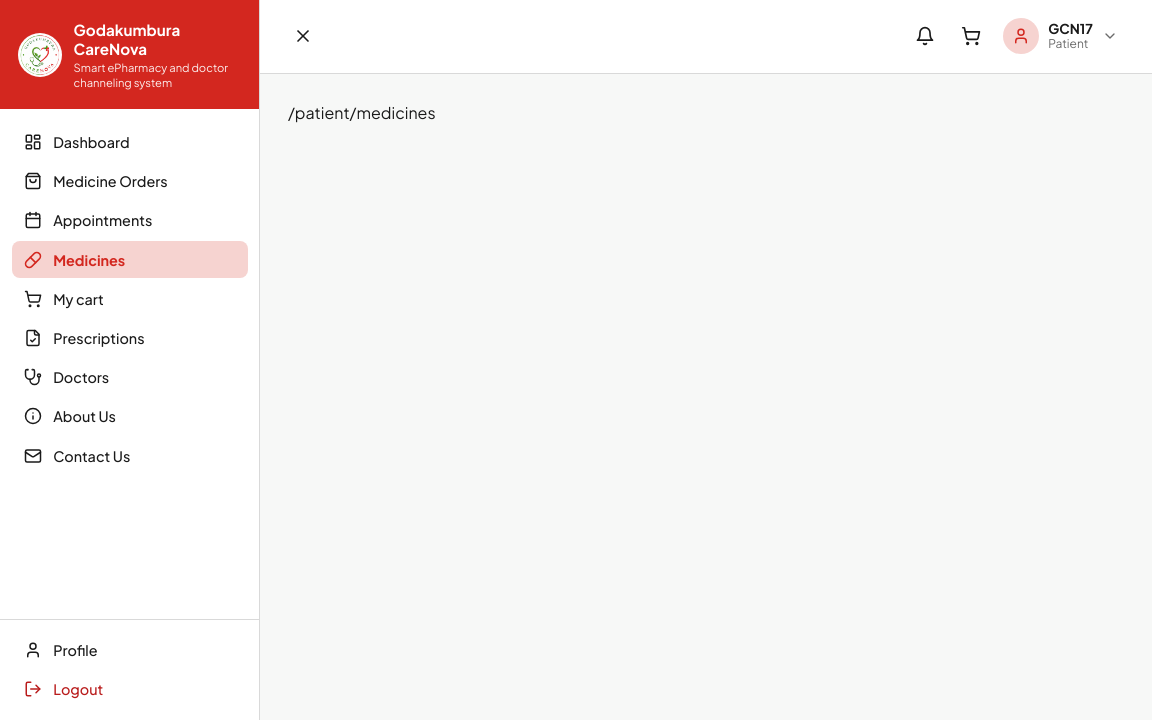
Test: DashboardLayout › opens My cart from the patient top bar
What coordinates should you click on to do the following:
click the button named "My cart"
I would click on:
 (971, 36)
Its box is [952, 17, 990, 55].
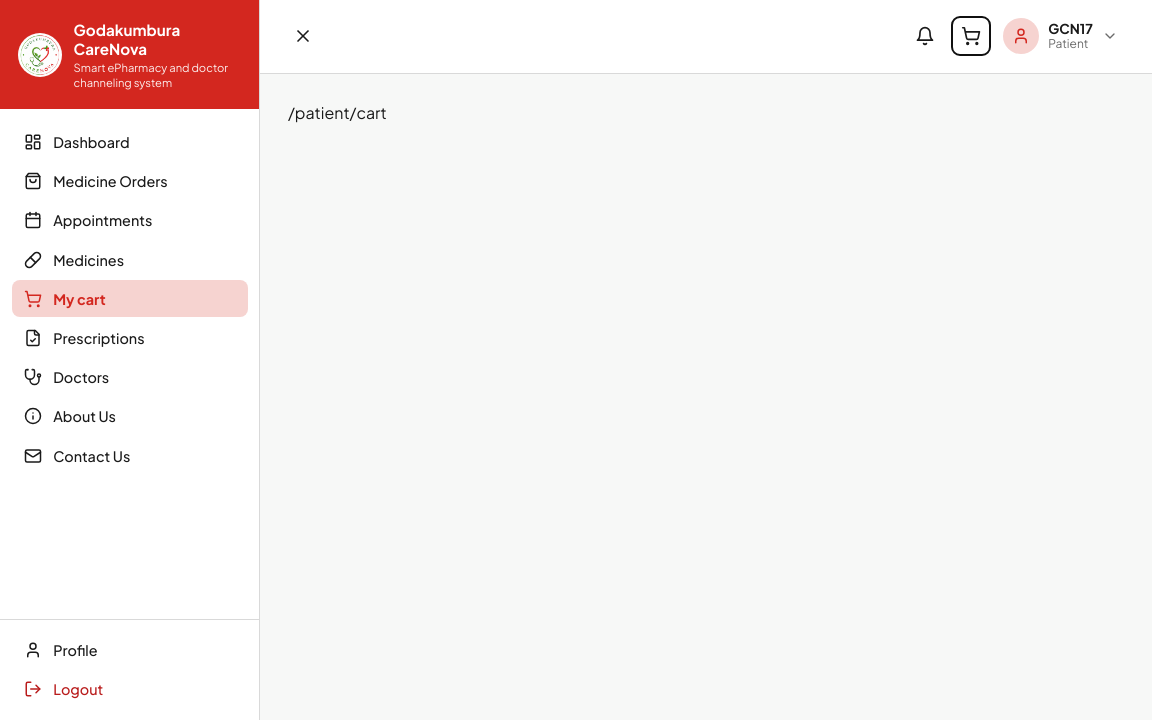
Result: the text "/patient/cart" is shown at [288, 102, 387, 123]
